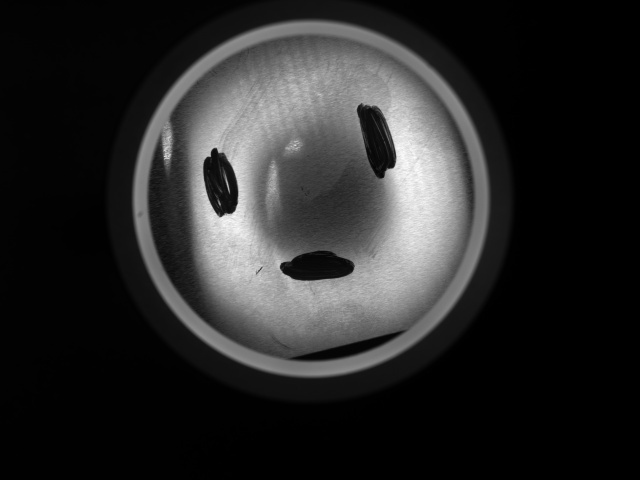zang_wu: (198, 145, 247, 217), (355, 101, 399, 181), (278, 246, 358, 282)
